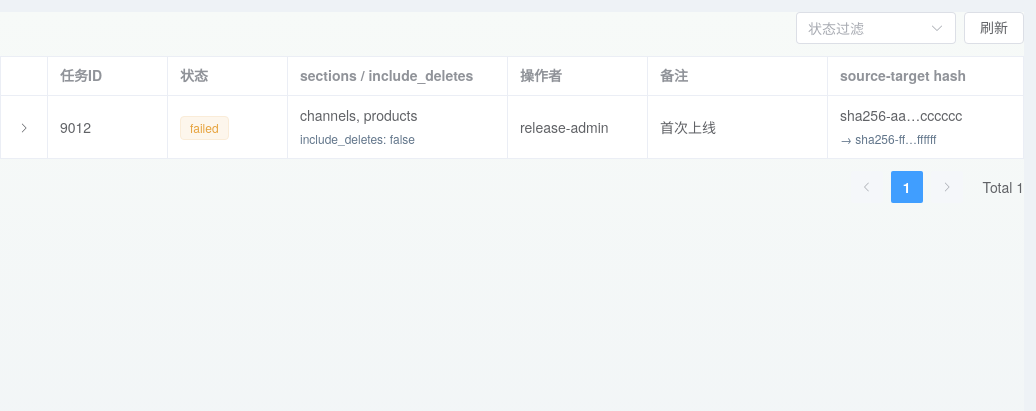
Test case: SyncJobsTab › 失败行展开显示错误概要 code+message 与 details
Click the icon next to "9012" at (24, 128), box [18, 122, 30, 134]
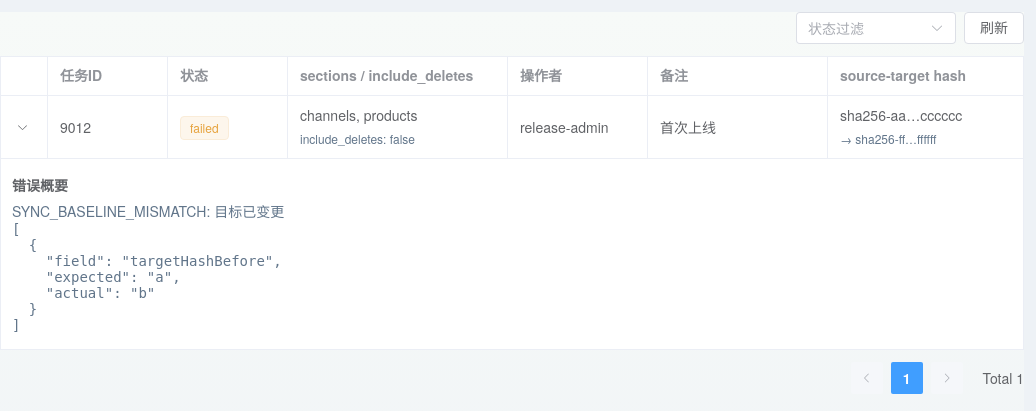
expect the text "SYNC_BASELINE_MISMATCH" is shown: met, box [12, 201, 284, 221]
expect the text "目标已变更" is shown: met, box [12, 201, 284, 221]
expect the text "targetHashBefore" is shown: met, box [12, 221, 282, 333]
